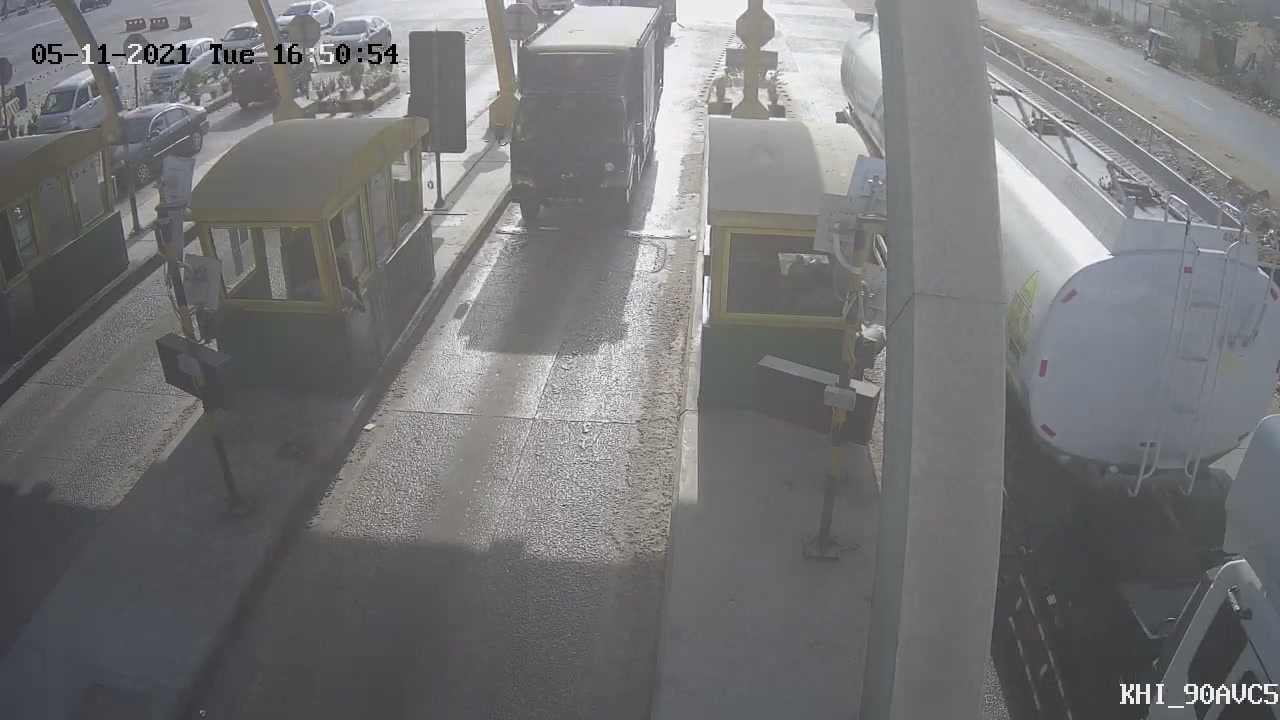F5: (482, 4, 681, 256)
